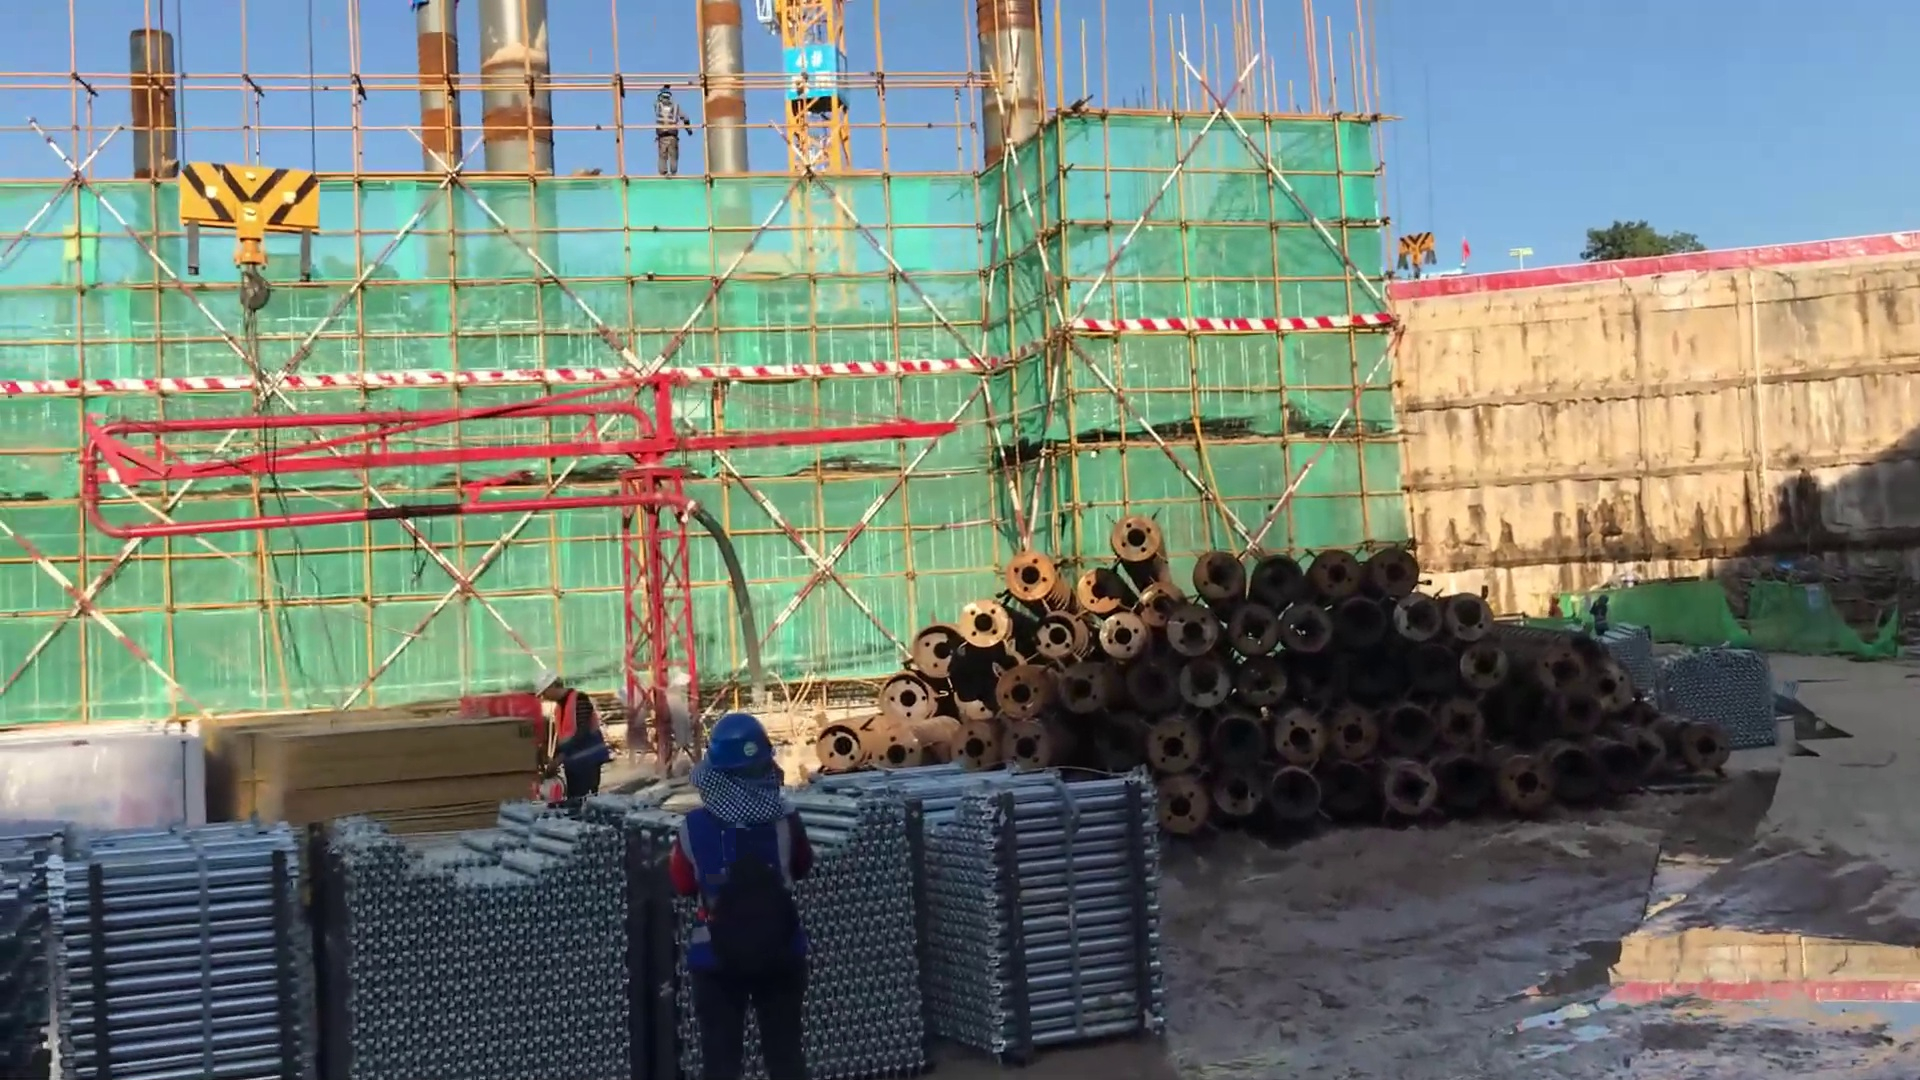board: (193, 719, 544, 848)
fence: (1390, 228, 1920, 316)
helmet: (704, 715, 791, 773)
hook: (166, 156, 351, 359), (1387, 223, 1458, 314)
person: (660, 712, 833, 1078), (538, 668, 608, 823), (652, 77, 695, 174)
scaffold: (836, 766, 1165, 1071), (327, 791, 645, 1080), (1, 819, 309, 1079), (1602, 625, 1792, 754)
slogan: (783, 44, 845, 105)
vest: (675, 800, 815, 977), (550, 689, 607, 772), (655, 102, 680, 138)
